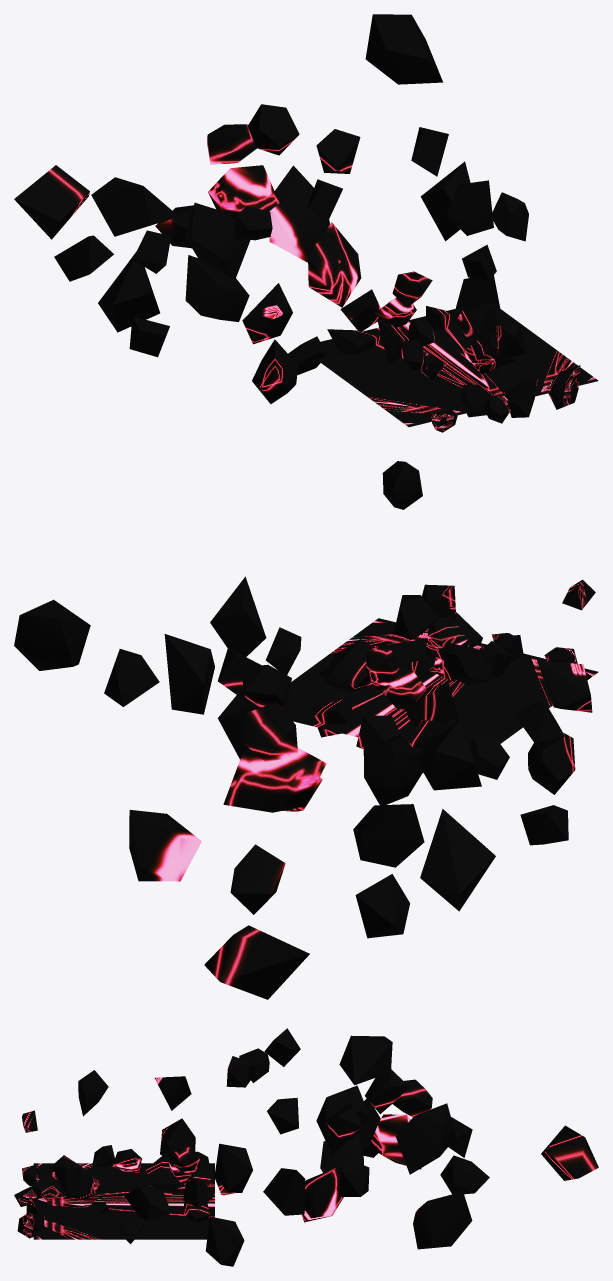
File: perspectiveGeo05.fbx
3 renders of one model, top to bottom at view 1: azimuth 30°, elevation 25°; view 2: azimuth 150°, elevation 25°; view 3: azimuth 270°, elevation 25°, orthographic. The views are drawn at different scales.
Visible parts, largest first — view 1: Floor, Platonic_035, Platonic_023, Platonic_003, Platonic_027, Platonic_025, Platonic_037, Platonic_019, Platonic_021, Platonic_031, Platonic_033, Platonic_030 (+30 smaller); view 2: Floor, Platonic_031, Platonic_037, Platonic_021, Platonic_023, Platonic_035, Platonic_019, Platonic_041, Platonic_027, Platonic_025, Platonic_038, Platonic_033 (+24 smaller); view 3: Floor, Platonic_035, Platonic_023, Platonic_025, Platonic_037, Platonic_003, Platonic_041, Platonic_027, Platonic_033, Platonic_013, Platonic_031, Platonic_022 (+26 smaller).
Part boxes in pixels (x1=…): Floor: x1=317, y1=303, x2=598, y2=427; Platonic_035: x1=365, y1=14, x2=443, y2=84; Platonic_023: x1=269, y1=165, x2=329, y2=262; Platonic_003: x1=308, y1=222, x2=361, y2=307; Platonic_027: x1=185, y1=202, x2=250, y2=279; Platonic_025: x1=91, y1=177, x2=178, y2=236; Platonic_037: x1=14, y1=165, x2=89, y2=239; Platonic_019: x1=185, y1=255, x2=249, y2=321; Platonic_021: x1=98, y1=251, x2=159, y2=332; Platonic_031: x1=208, y1=165, x2=279, y2=220; Platonic_033: x1=446, y1=180, x2=493, y2=235; Platonic_030: x1=247, y1=104, x2=299, y2=155; Floor: x1=282, y1=618, x2=598, y2=762; Platonic_031: x1=223, y1=747, x2=326, y2=812; Platonic_037: x1=204, y1=925, x2=309, y2=999; Platonic_021: x1=420, y1=809, x2=495, y2=911; Platonic_023: x1=129, y1=810, x2=201, y2=881; Platonic_035: x1=14, y1=599, x2=90, y2=670; Platonic_019: x1=353, y1=804, x2=424, y2=867; Platonic_041: x1=164, y1=634, x2=214, y2=714; Platonic_027: x1=363, y1=735, x2=422, y2=805; Platonic_025: x1=415, y1=718, x2=481, y2=790; Platonic_038: x1=244, y1=701, x2=298, y2=762; Platonic_033: x1=210, y1=576, x2=266, y2=656; Floor: x1=33, y1=1163, x2=214, y2=1239; Platonic_035: x1=395, y1=1103, x2=455, y2=1174; Platonic_023: x1=413, y1=1191, x2=472, y2=1249; Platonic_025: x1=339, y1=1035, x2=392, y2=1085; Platonic_037: x1=541, y1=1125, x2=598, y2=1180; Platonic_003: x1=302, y1=1168, x2=343, y2=1222; Platonic_041: x1=263, y1=1168, x2=305, y2=1215; Platonic_027: x1=316, y1=1085, x2=368, y2=1154; Platonic_033: x1=214, y1=1143, x2=252, y2=1192; Platonic_013: x1=205, y1=1216, x2=244, y2=1266; Platonic_031: x1=369, y1=1114, x2=421, y2=1169; Platonic_022: x1=440, y1=1155, x2=489, y2=1194.
Size of the model in its own units: 511 by 272 by 807.
